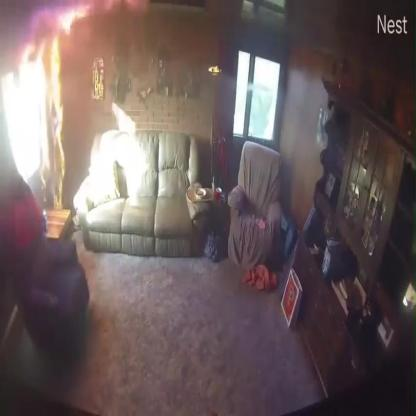fire: (33, 36, 64, 214), (27, 2, 96, 36)
